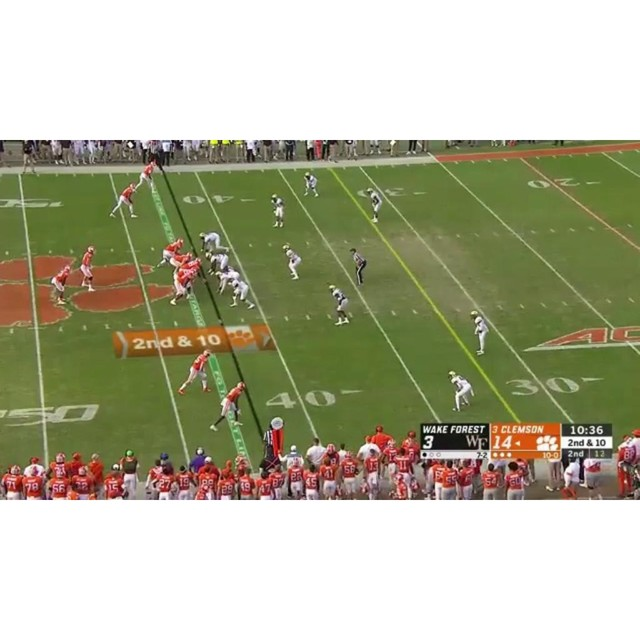american-football-player: (209, 380, 247, 431), (176, 349, 212, 395), (448, 369, 474, 412), (108, 182, 138, 219), (170, 268, 198, 306), (328, 283, 352, 326), (157, 236, 184, 269), (229, 275, 255, 309), (470, 310, 489, 356), (216, 263, 240, 298), (51, 264, 71, 304), (136, 159, 159, 193), (79, 245, 96, 291), (282, 243, 302, 280), (199, 231, 229, 254), (205, 250, 230, 276), (366, 187, 383, 223), (270, 193, 285, 228), (303, 172, 319, 198)
referee: (349, 248, 367, 285)
